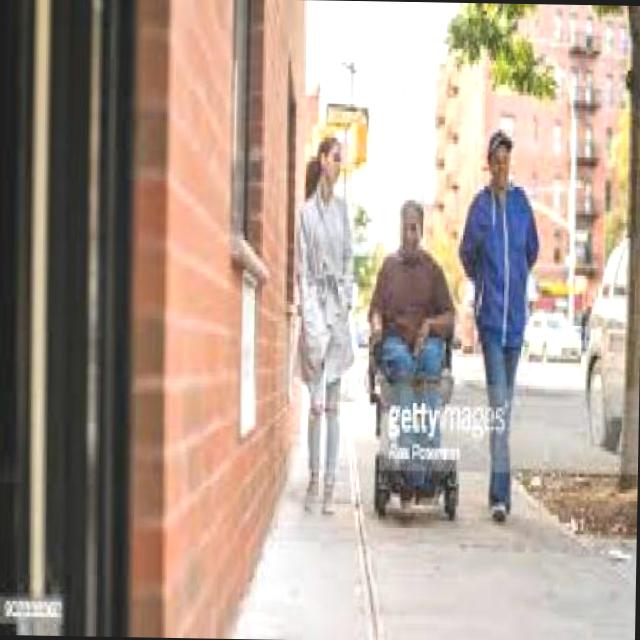Person: (363, 191, 464, 517), (458, 128, 536, 522), (296, 138, 356, 520)
